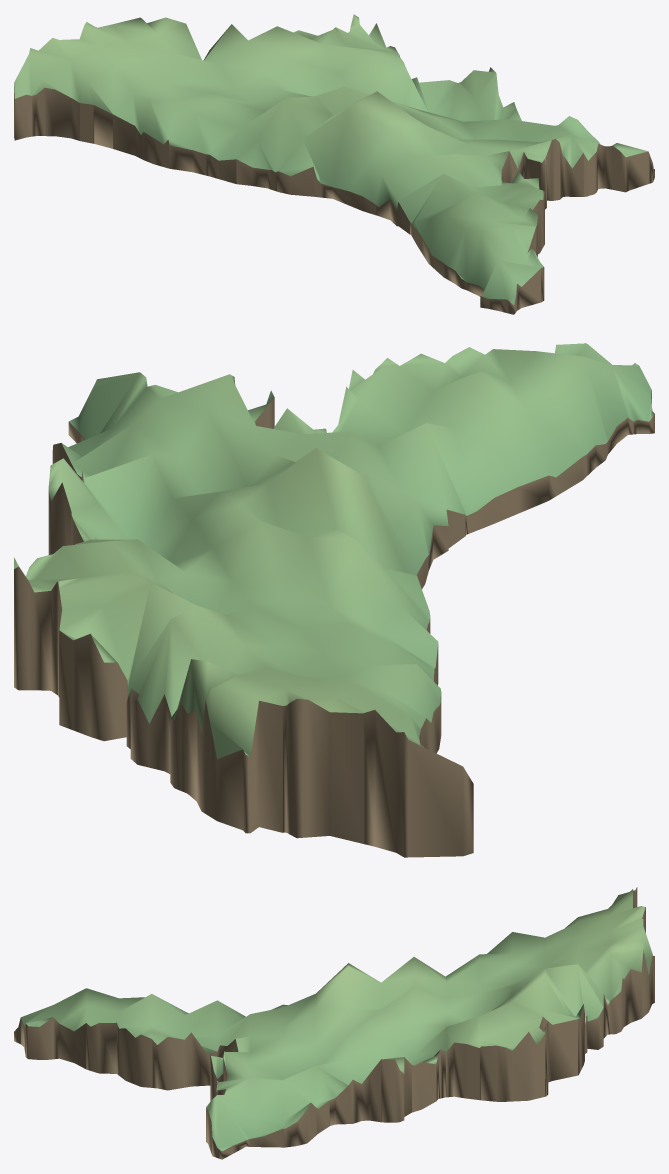
File: MDA.glb
3 views of the same model, one above another, from view 1: azimuth 30°, elevation 25°; view 2: azimuth 150°, elevation 25°; view 3: azimuth 270°, elevation 25° (orthographic). The views are drawn at different scales.
Parts seen in each view (by area): view 1: MDA; view 2: MDA; view 3: MDA.
Boxes of the visible parts, x1=… form: MDA: x1=14, y1=14, x2=654, y2=314; MDA: x1=14, y1=343, x2=654, y2=857; MDA: x1=14, y1=887, x2=654, y2=1159.
Size of the model in its own units: 1.25 by 0.2471 by 1.6.
